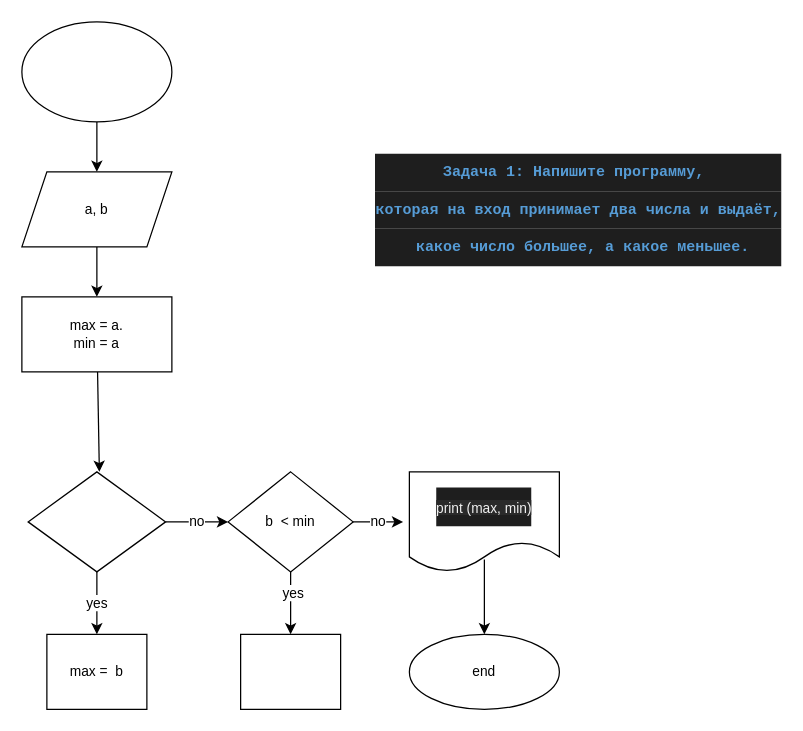
The diagram is 803 pixels wide and 731 high, and some of its shapes have lost their labels. The shapes that lost their labels are listed below. From the top down, each one's centre as x and y in pixels, then its label:
point (96, 71): start
point (96, 521): b > max
point (290, 671): min = b
